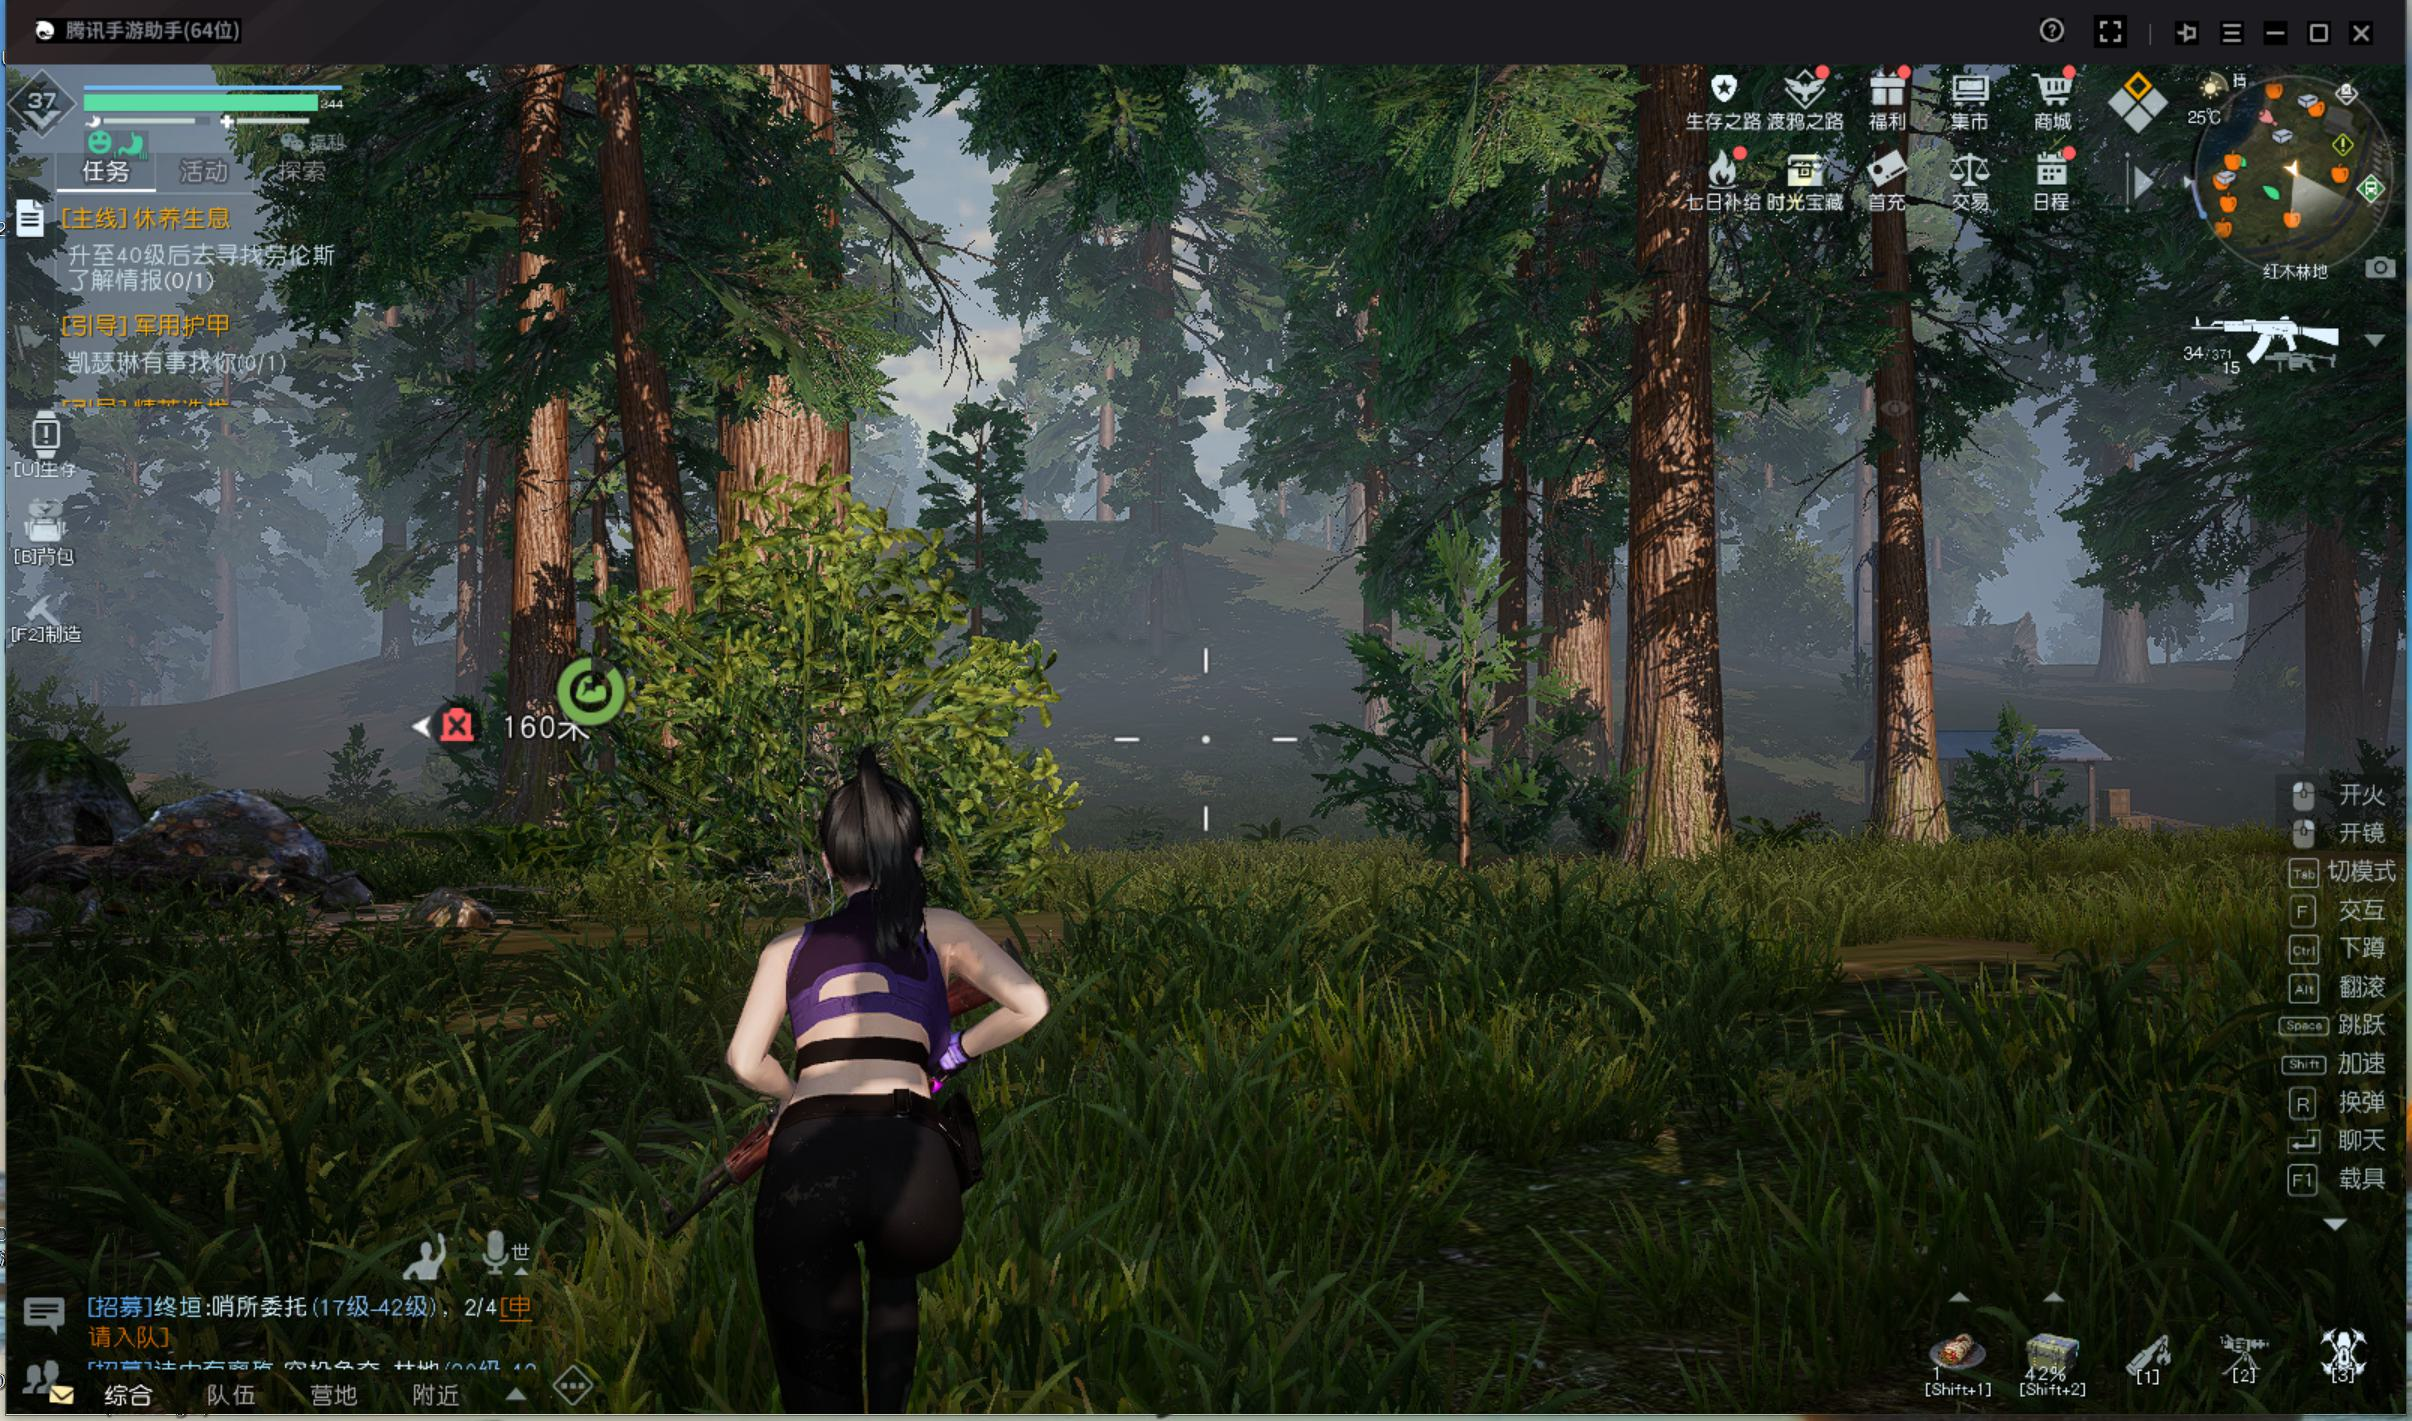tree: (712, 326, 856, 787), (1619, 411, 1734, 873), (1862, 431, 1950, 853), (502, 345, 563, 831), (1536, 524, 1610, 848), (1490, 546, 1531, 842)
